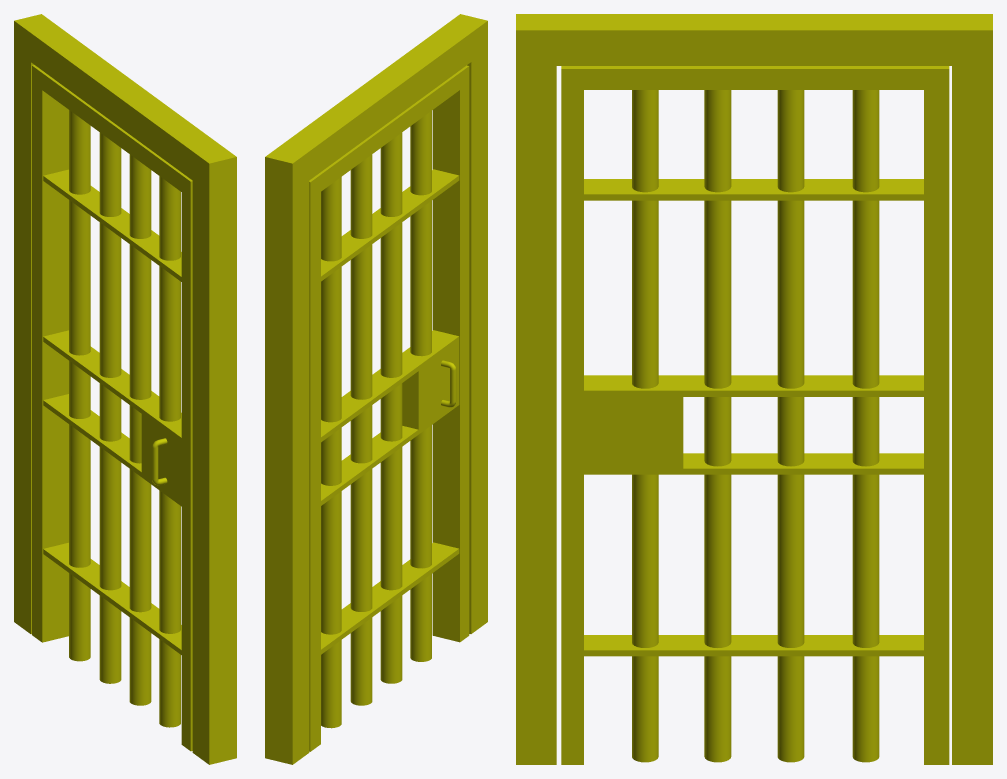
File: Puerta.fbx
3 views of the same model, side by side, from view 1: azimuth 30°, elevation 25°; view 2: azimuth 150°, elevation 25°; view 3: azimuth 270°, elevation 25° (orthographic). The views are drawn at different scales.
Visible parts, largest first — view 1: polySurface2, polySurface1; view 2: polySurface2, polySurface1; view 3: polySurface2, polySurface1.
Part boxes in pixels (x1,y1,x2,y2): polySurface2: [32, 65, 192, 751]; polySurface1: [14, 14, 236, 764]; polySurface2: [309, 65, 469, 751]; polySurface1: [265, 14, 487, 764]; polySurface2: [561, 66, 949, 764]; polySurface1: [516, 14, 992, 764].
Bounding box in the file's own units: 0.5441 × 7.82 × 4.6.
